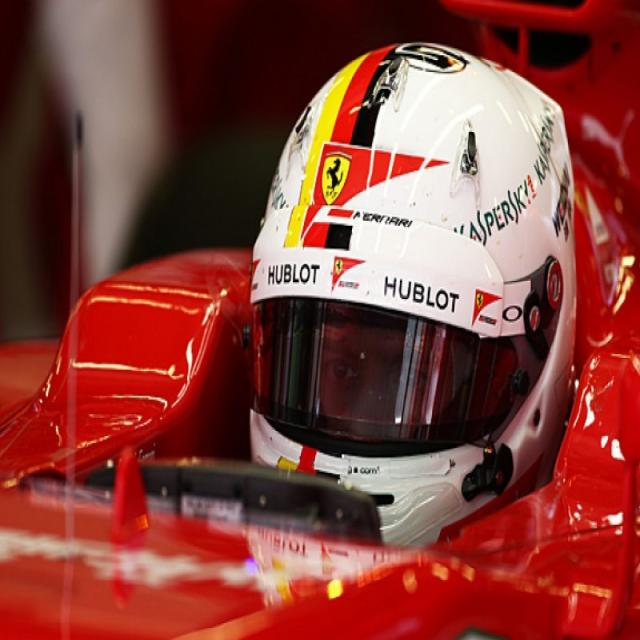Helm: (246, 31, 578, 544)
